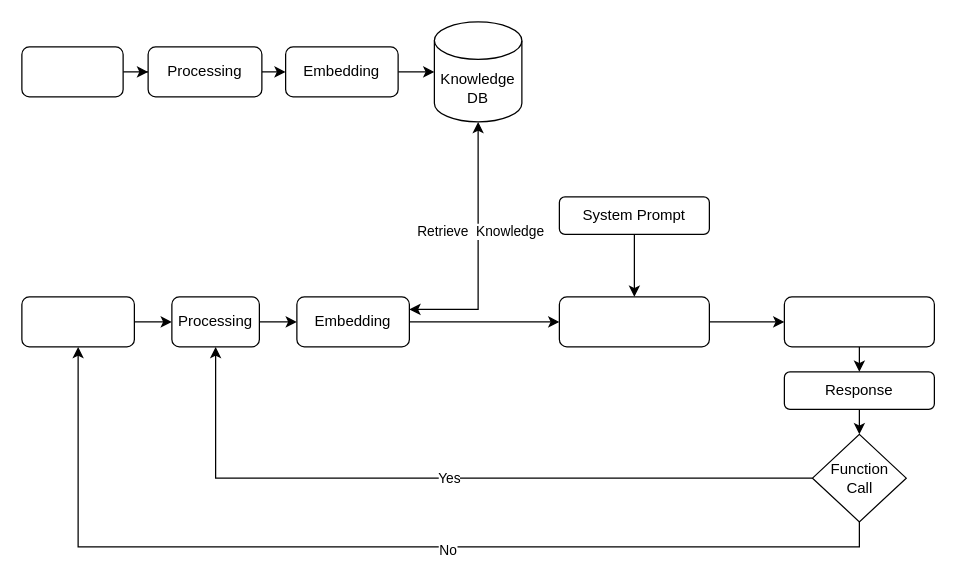
This 956x580 diagram has some shape labels left out. Here are the shapes that lost their labels. From the top down, the box of each, then its label:
(21, 46, 123, 97): Knowledge
(21, 296, 134, 347): User
(558, 296, 709, 347): Boilerplate Prompt
(783, 296, 934, 347): LLM
